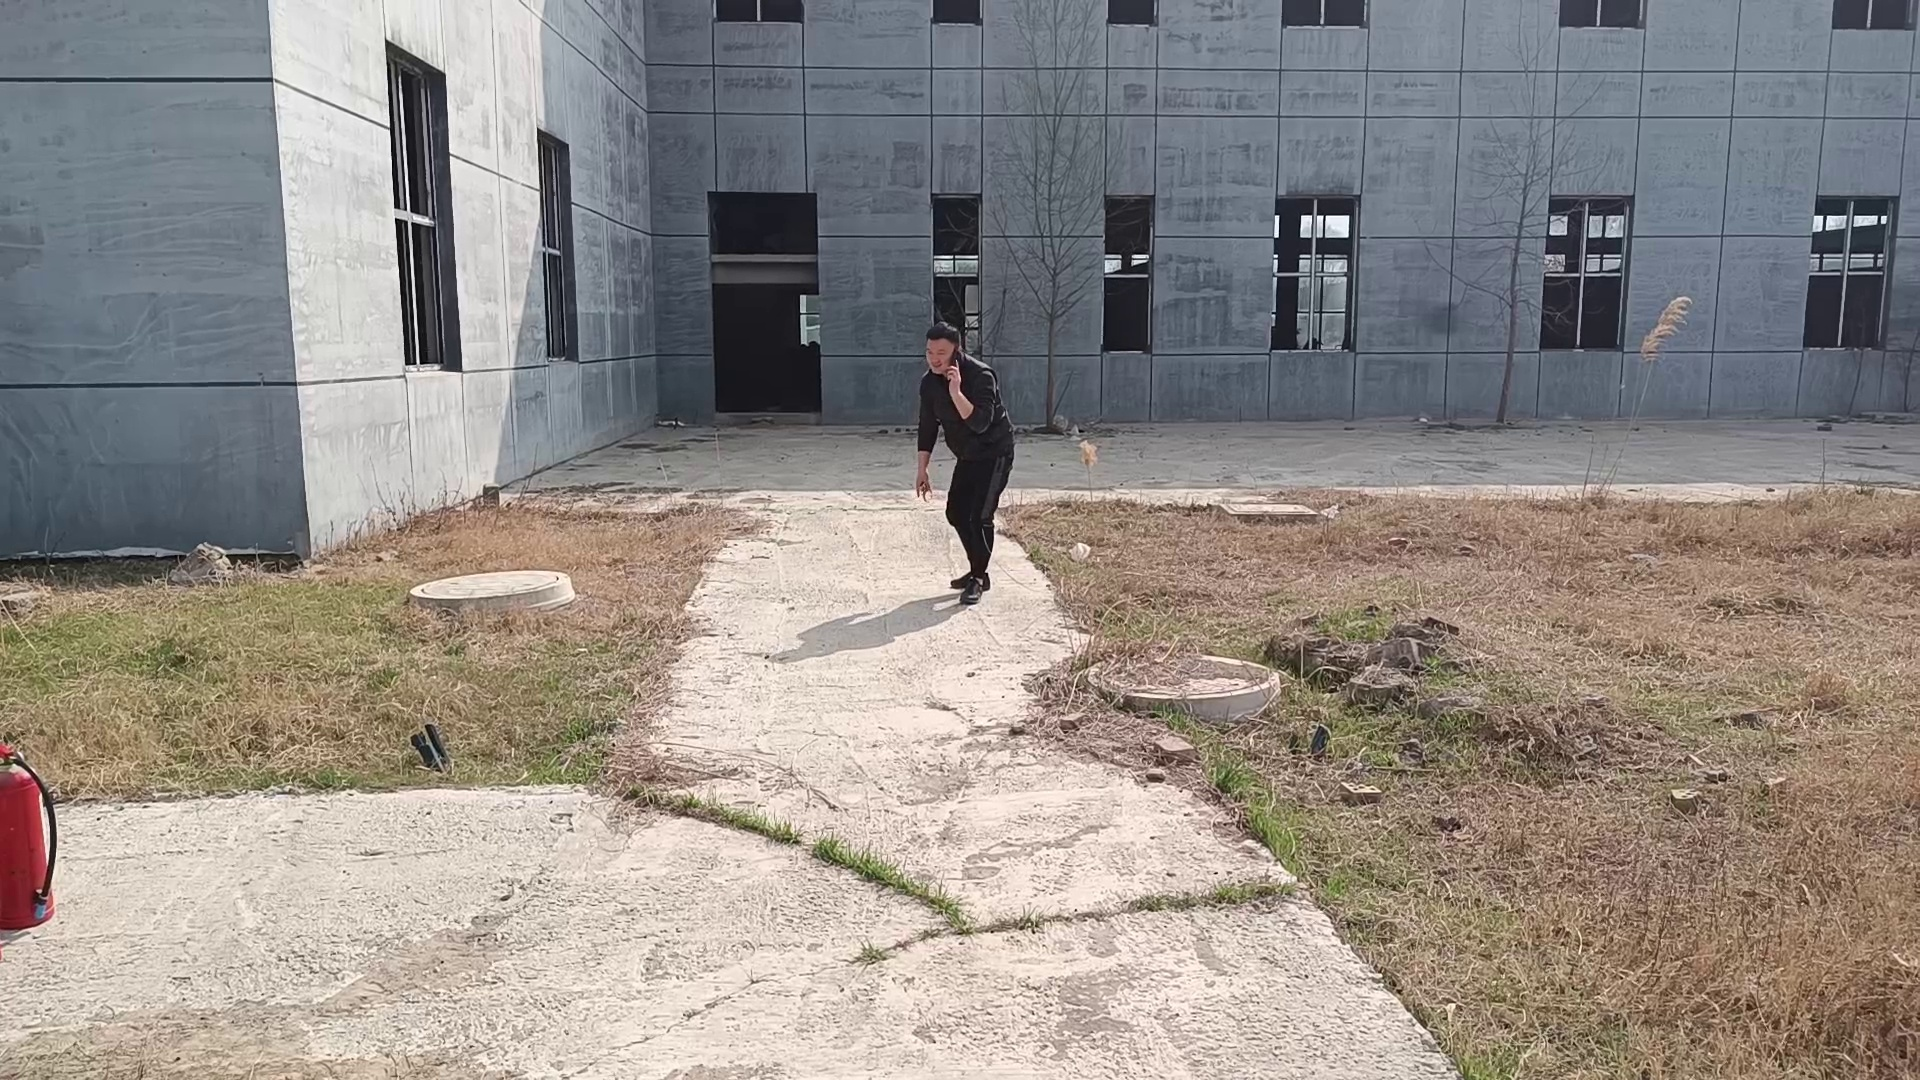phone: (920, 319, 968, 382)
